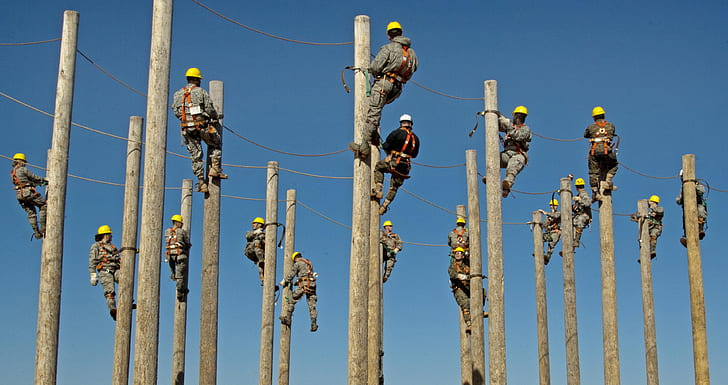Hard Hat: (386, 21, 405, 42), (186, 67, 203, 89), (511, 106, 529, 126), (96, 225, 114, 244), (591, 108, 606, 123), (12, 154, 29, 167), (573, 177, 586, 193), (172, 213, 184, 229), (400, 115, 414, 128), (453, 248, 464, 262), (291, 251, 303, 263), (252, 217, 264, 229), (648, 195, 660, 206), (456, 218, 467, 228), (384, 221, 394, 231), (549, 199, 558, 210)
Person: (350, 22, 419, 155), (174, 69, 229, 191), (372, 118, 414, 215), (92, 225, 135, 313), (447, 249, 491, 332), (10, 154, 50, 239), (588, 109, 622, 201), (282, 252, 320, 333), (500, 105, 533, 197), (677, 171, 707, 247), (168, 214, 191, 300), (570, 178, 592, 249), (248, 217, 270, 283), (541, 200, 561, 264), (381, 222, 402, 281), (645, 196, 663, 260), (449, 217, 474, 250)
